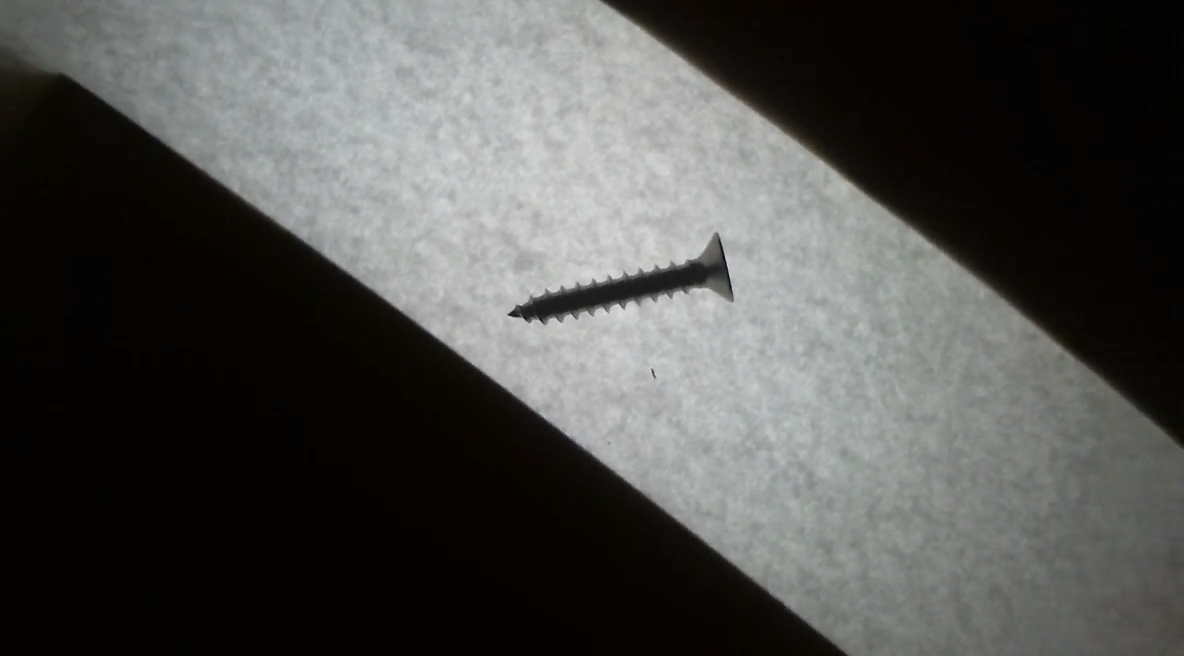S001: (490, 211, 763, 352)
